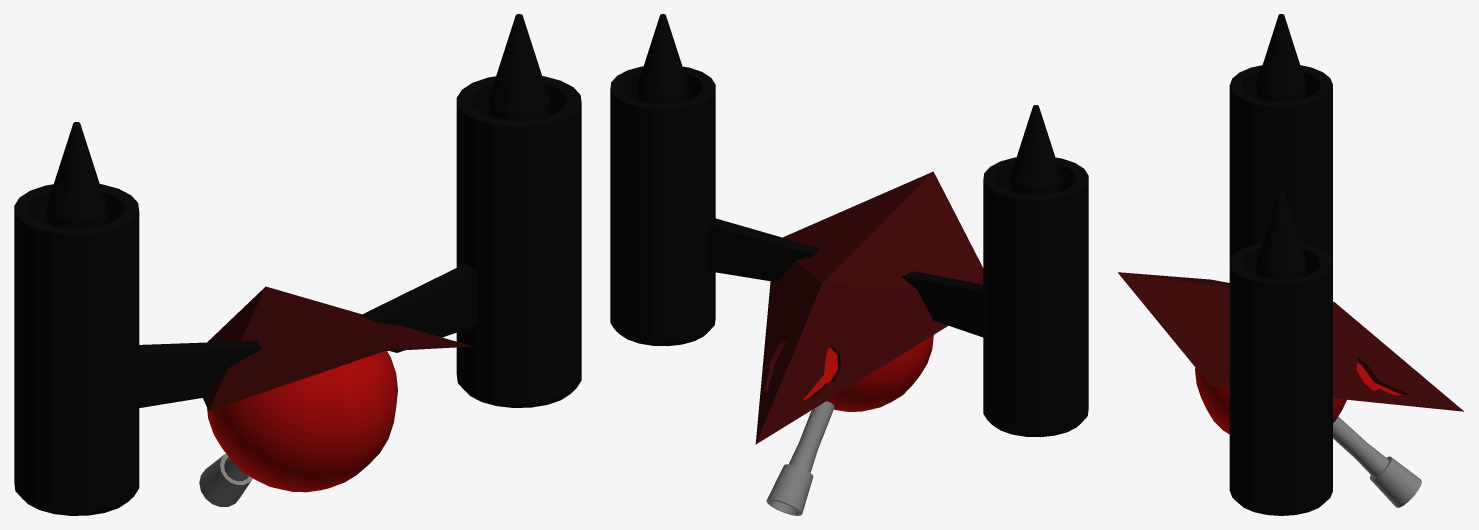
The model's file is Drone Enemy.fbx.
3 renders of one model, left to right at view 1: azimuth 30°, elevation 25°; view 2: azimuth 150°, elevation 25°; view 3: azimuth 270°, elevation 25°, orthographic. The views are drawn at different scales.
Visible parts, largest first — view 1: Repulsor1, Repulsor2, Engine, Head, Turret; view 2: Repulsor2, Repulsor1, Head, Engine, Turret; view 3: Repulsor2, Repulsor1, Head, Turret, Engine.
Boxes of the visible parts, box(x1,y1,x2,y2) form: Repulsor1: box(14, 122, 261, 515); Repulsor2: box(360, 14, 581, 407); Engine: box(207, 350, 397, 492); Head: box(203, 286, 472, 410); Turret: box(199, 453, 252, 506); Repulsor2: box(610, 14, 818, 346); Repulsor1: box(901, 105, 1088, 437); Head: box(755, 171, 983, 444); Engine: box(827, 335, 933, 411); Turret: box(766, 401, 834, 515); Repulsor2: box(1229, 191, 1332, 515); Repulsor1: box(1229, 14, 1332, 262); Head: box(1118, 272, 1463, 411); Turret: box(1333, 416, 1421, 507); Engine: box(1195, 368, 1346, 434).
Bounding box in the file's own units: 87.39 × 73.95 × 57.96.
